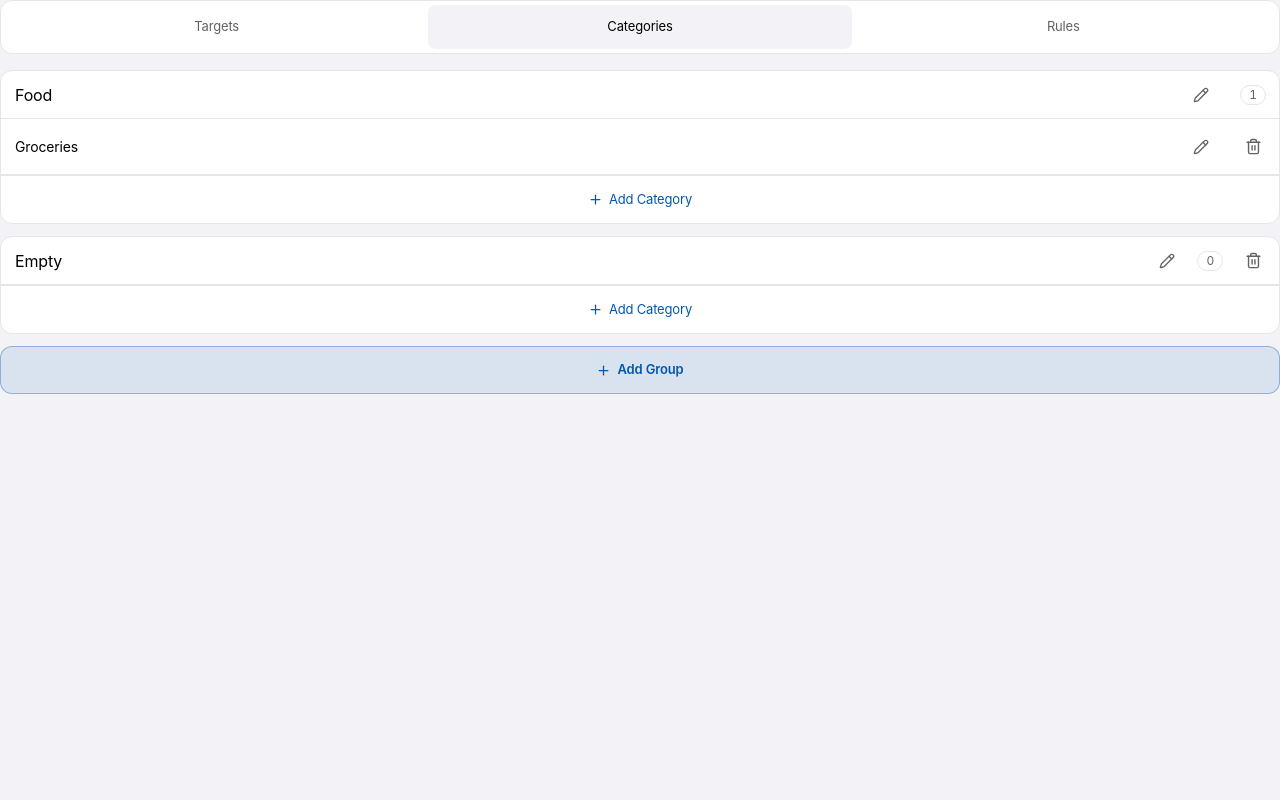
BudgetSetupMobile › renames a category and a group
Earlier steps of the test are not shown.
Click the button named "Rename category Groceries".
click(1201, 146)  # box x1=1179 y1=124 x2=1223 y2=168
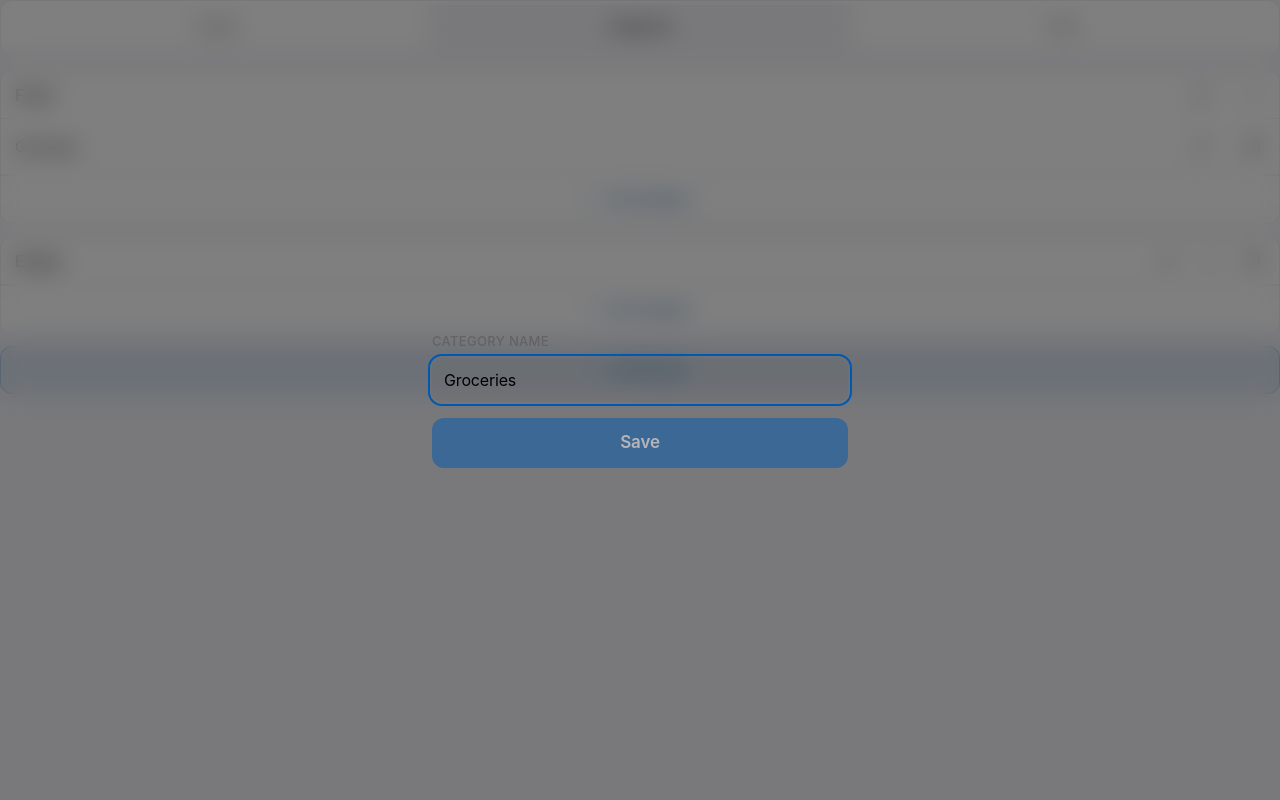
Replace the text in the field labelled "Category name" with "Supermarket" at coordinates (640, 380), box x1=432 y1=358 x2=848 y2=402
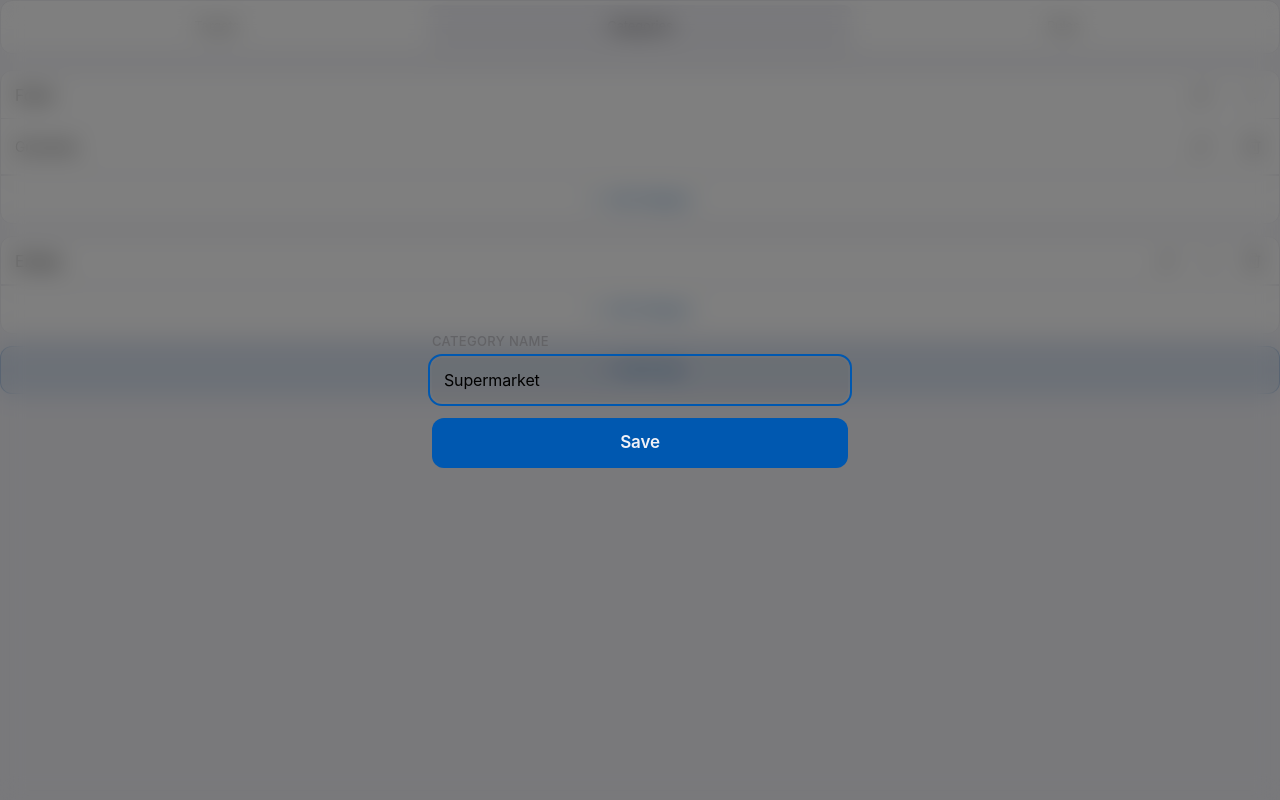
Click the button "Save".
click(640, 443)  # box x1=432 y1=418 x2=848 y2=468
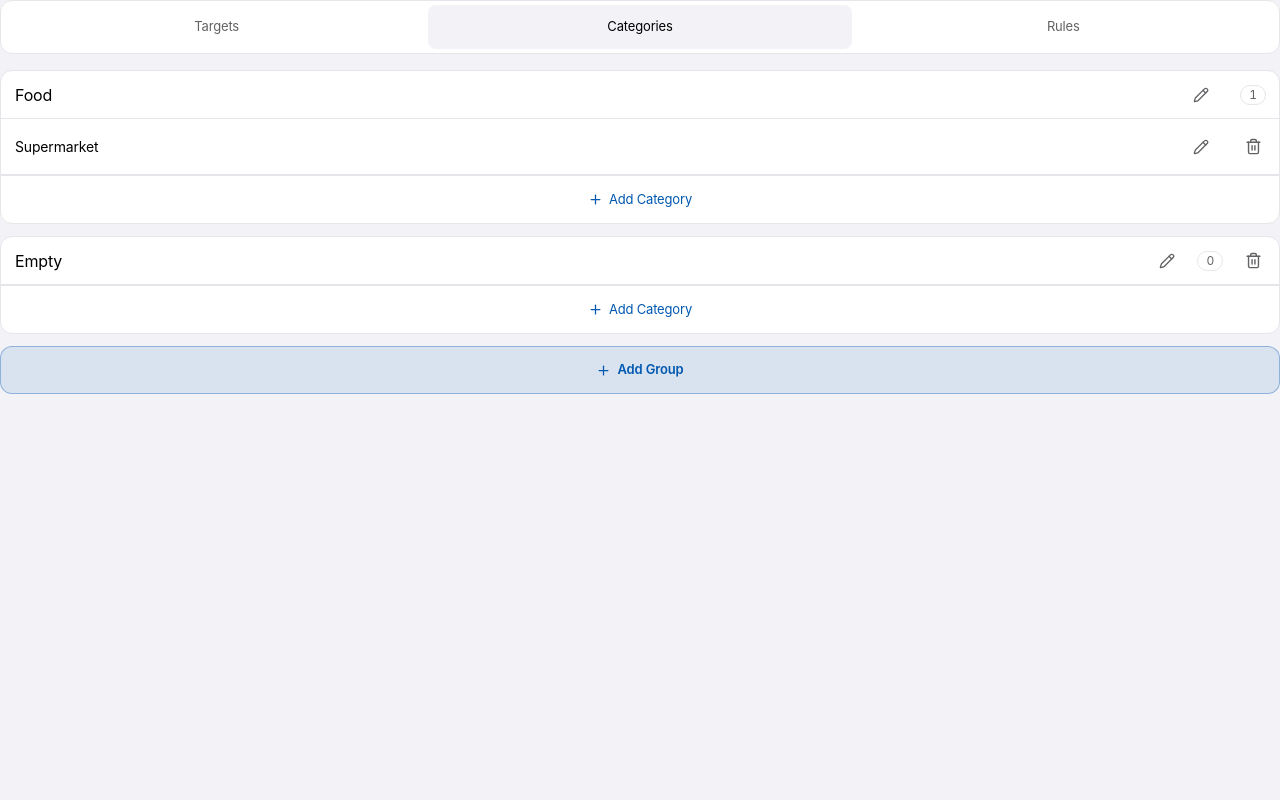
Expected: the text "Supermarket" is shown, x1=15 y1=138 x2=98 y2=155
Click the button named "Rename group Food".
click(1201, 94)  # box x1=1179 y1=72 x2=1223 y2=116
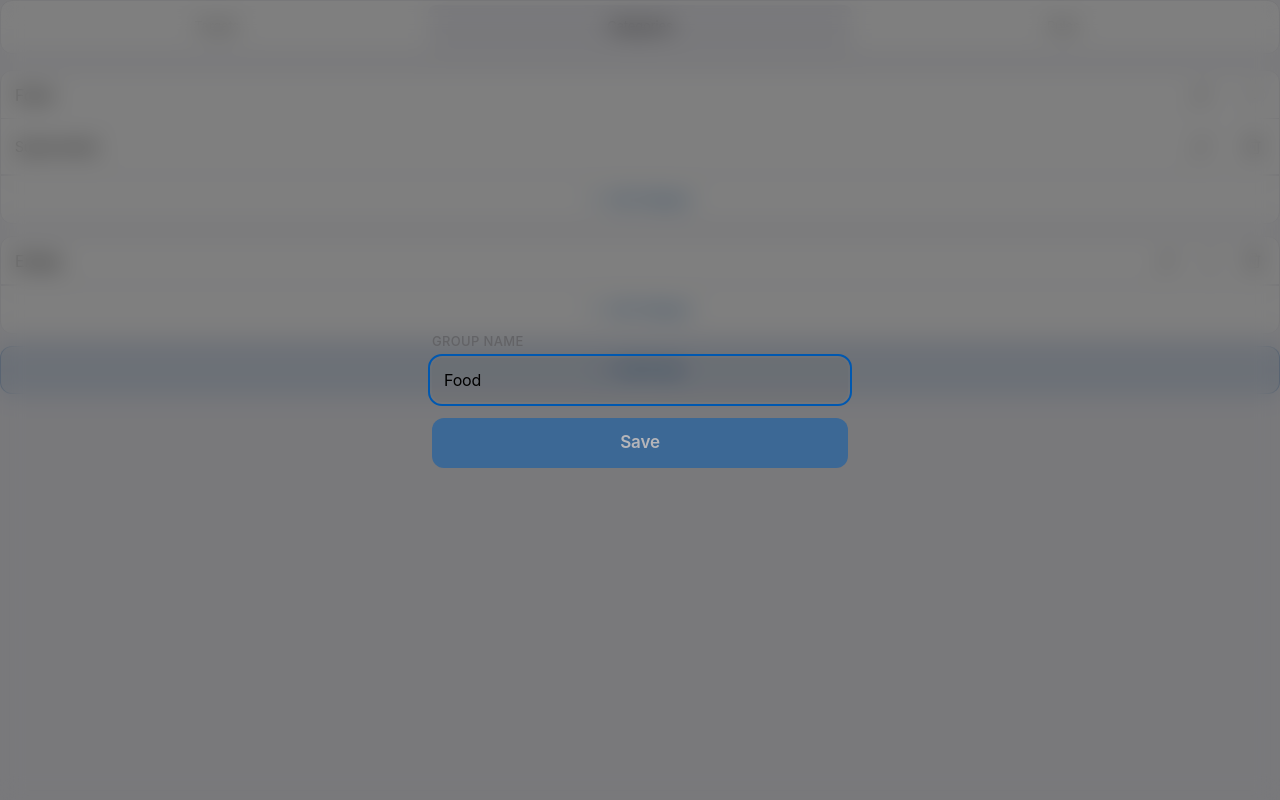
Expected: the button "Save" is disabled, x1=432 y1=418 x2=848 y2=468
Replace the text in the field labelled "Group name" with "Food & Dining" at coordinates (640, 380), box x1=432 y1=358 x2=848 y2=402
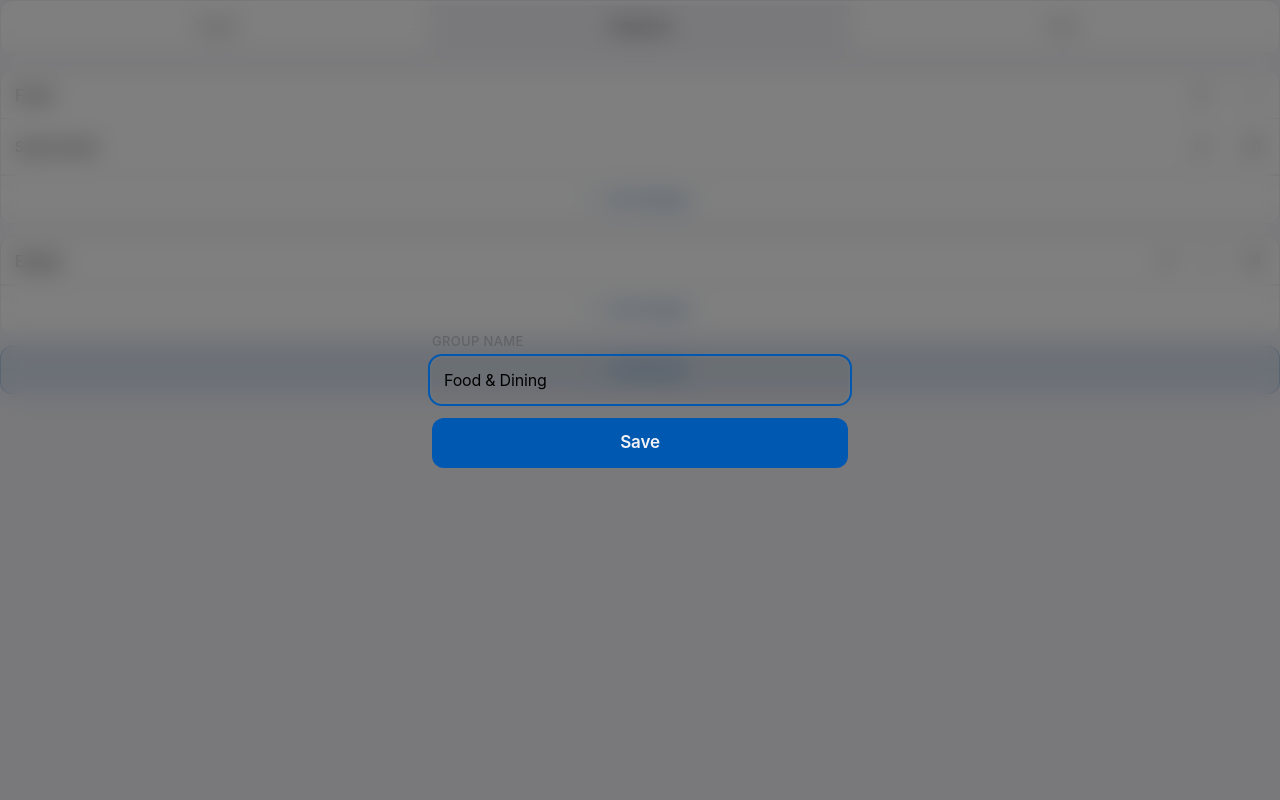
Click the button "Save".
click(640, 443)  # box x1=432 y1=418 x2=848 y2=468
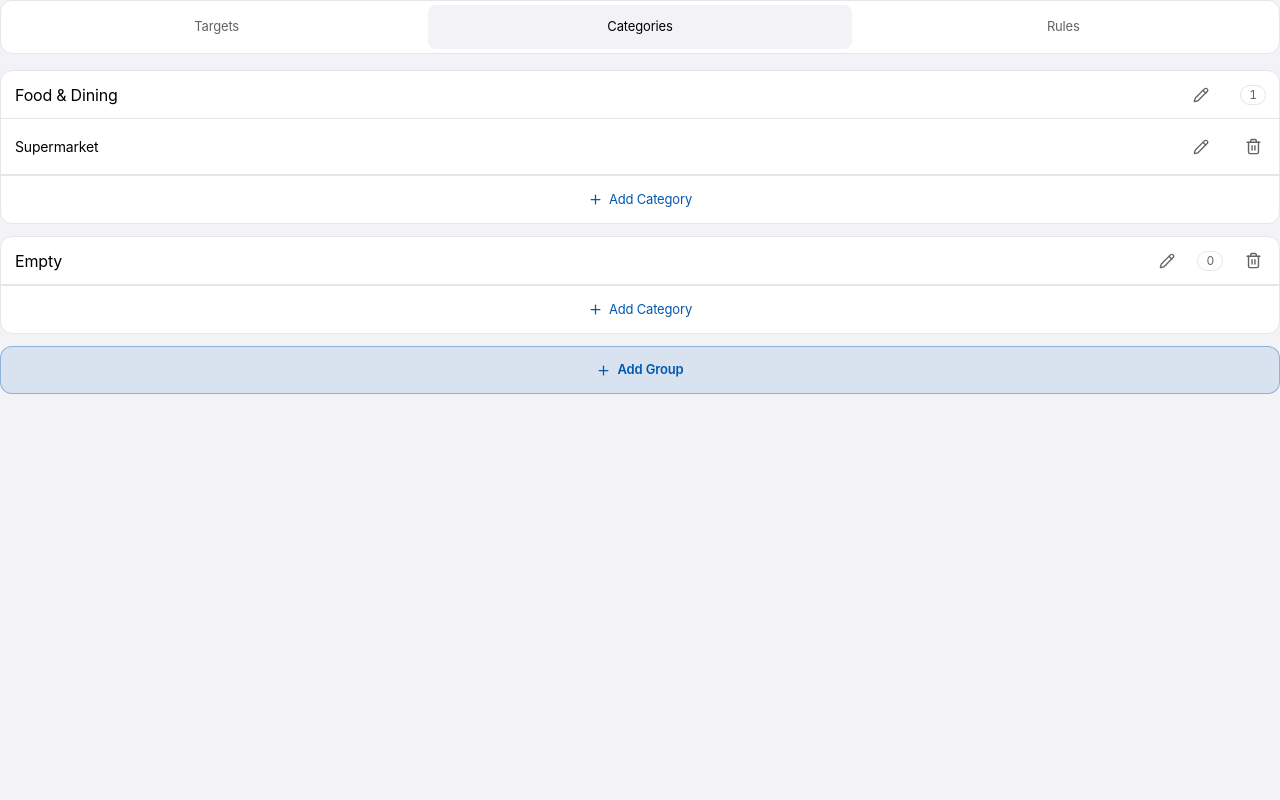
Expected: the text "Food & Dining" is shown, x1=15 y1=84 x2=118 y2=104
